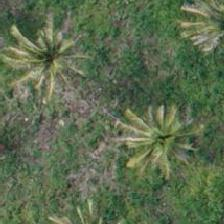coconut_tree: (108, 94, 198, 184), (0, 9, 90, 99)
